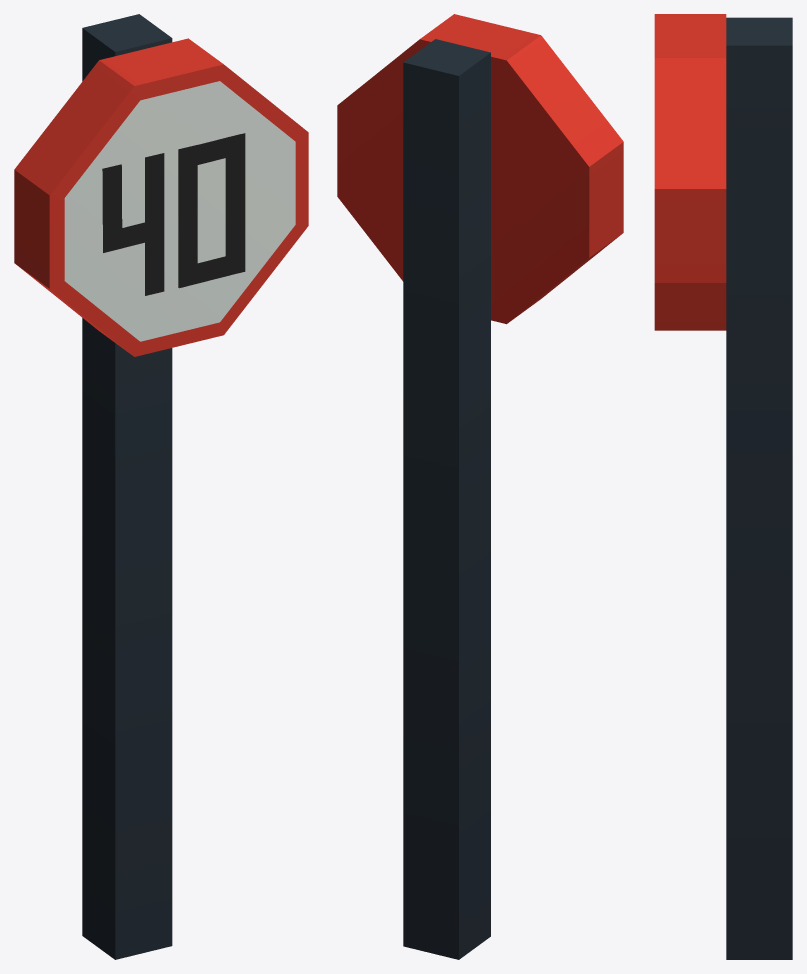
Rendered from Road_sign_max_Speed_40.fbx.
The picture shows the model from 3 angles, left to right: view 1: azimuth 30°, elevation 25°; view 2: azimuth 150°, elevation 25°; view 3: azimuth 270°, elevation 25°; orthographic projection. The views are drawn at different scales.
Visible parts, largest first — view 1: Road_sign_max_Speed_40; view 2: Road_sign_max_Speed_40; view 3: Road_sign_max_Speed_40.
Part boxes in pixels (x1,y1,x2,y2): Road_sign_max_Speed_40: (14, 14, 308, 959); Road_sign_max_Speed_40: (337, 14, 623, 959); Road_sign_max_Speed_40: (654, 14, 792, 959).
Size of the model in its own units: 107 by 359 by 49.94.
